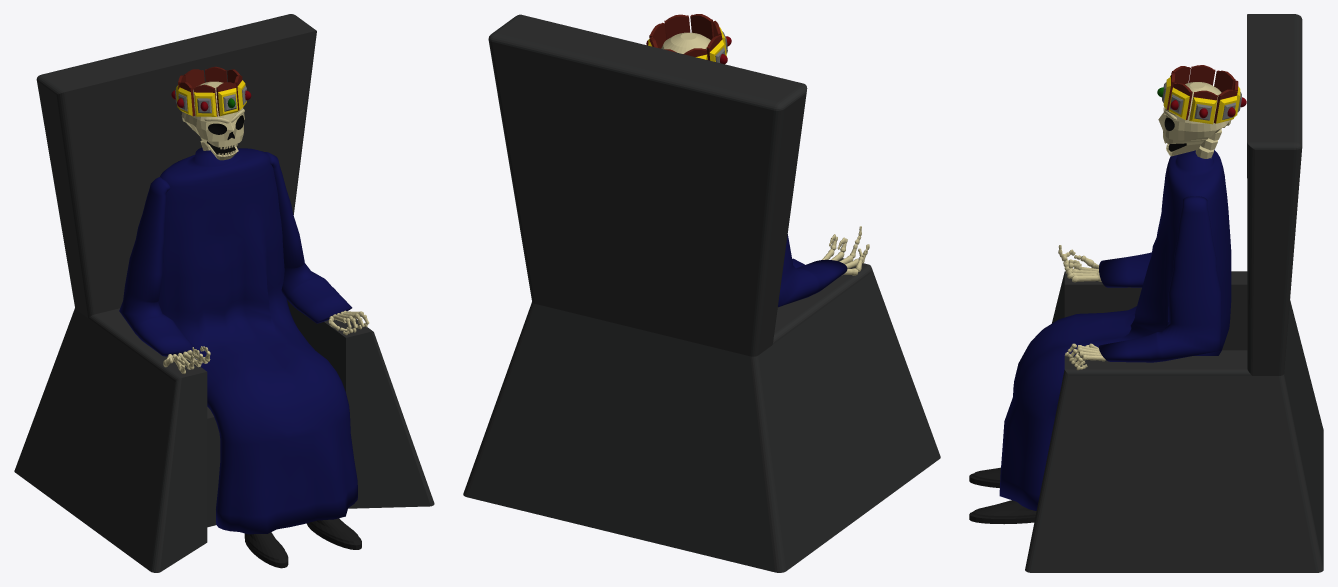
File: Actual Jarl Corpse (Export).fbx
The picture shows the model from 3 angles, left to right: view 1: azimuth 30°, elevation 25°; view 2: azimuth 150°, elevation 25°; view 3: azimuth 270°, elevation 25°; orthographic projection. The views are drawn at different scales.
Parts seen in each view (by area): view 1: Actual Jarl; view 2: Actual Jarl; view 3: Actual Jarl.
Part boxes in pixels (x1=…): Actual Jarl: x1=14, y1=14, x2=434, y2=572; Actual Jarl: x1=463, y1=14, x2=940, y2=572; Actual Jarl: x1=969, y1=14, x2=1323, y2=572.
Bounding box in the file's own units: 341 × 467 × 352.
